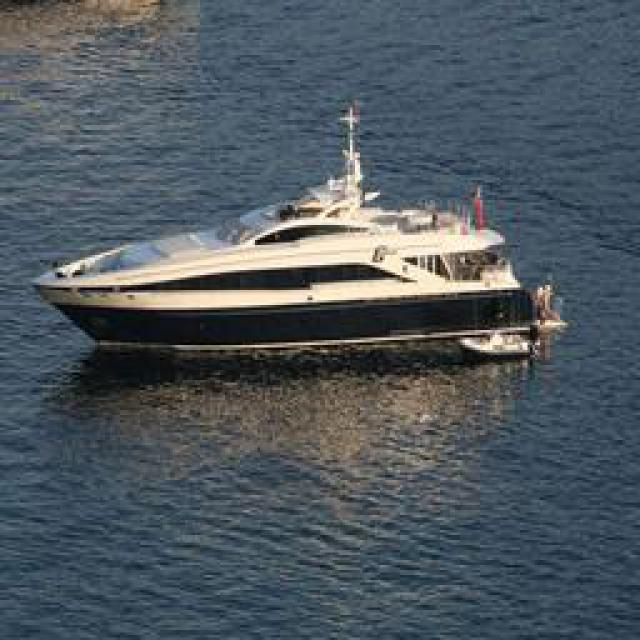Ship: (25, 101, 558, 356)
